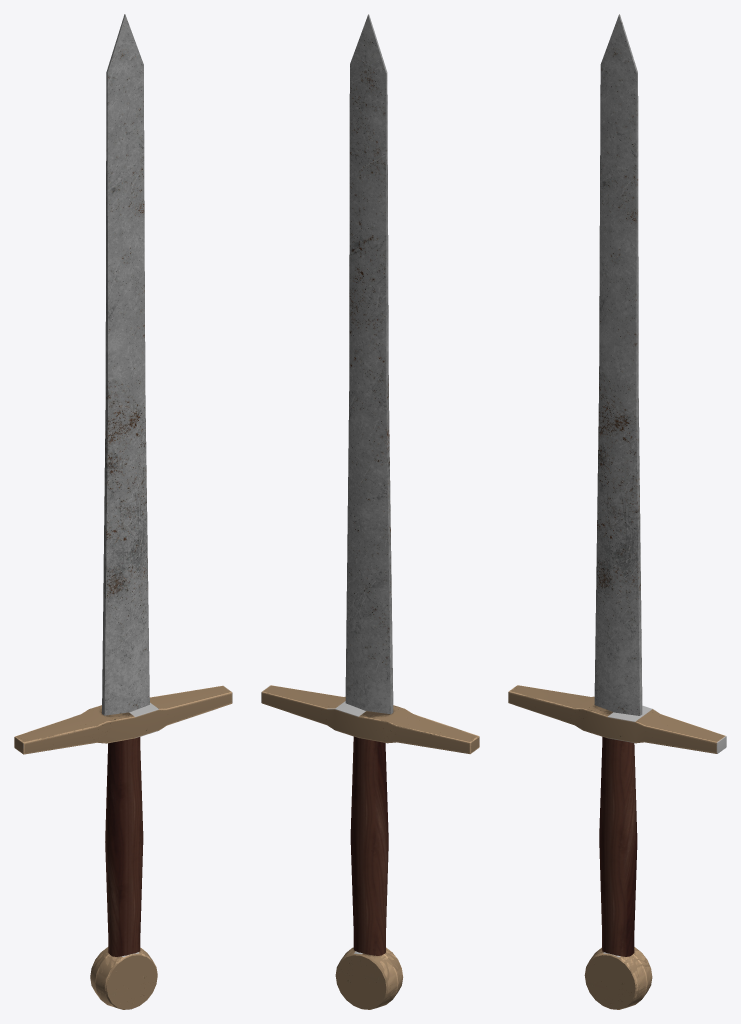
File: sword.fbx
3 views of the same model, side by side, from view 1: azimuth 30°, elevation 25°; view 2: azimuth 150°, elevation 25°; view 3: azimuth 330°, elevation 25° (orthographic).
Visible parts, largest first — view 1: Long_Sword_SM; view 2: Long_Sword_SM; view 3: Long_Sword_SM.
Part boxes in pixels (<box>): Long_Sword_SM: <box>14,14,232,1009</box>; Long_Sword_SM: <box>261,14,479,1009</box>; Long_Sword_SM: <box>508,14,726,1009</box>.
Size of the model in its own units: 44.86 by 203 by 7.99.
